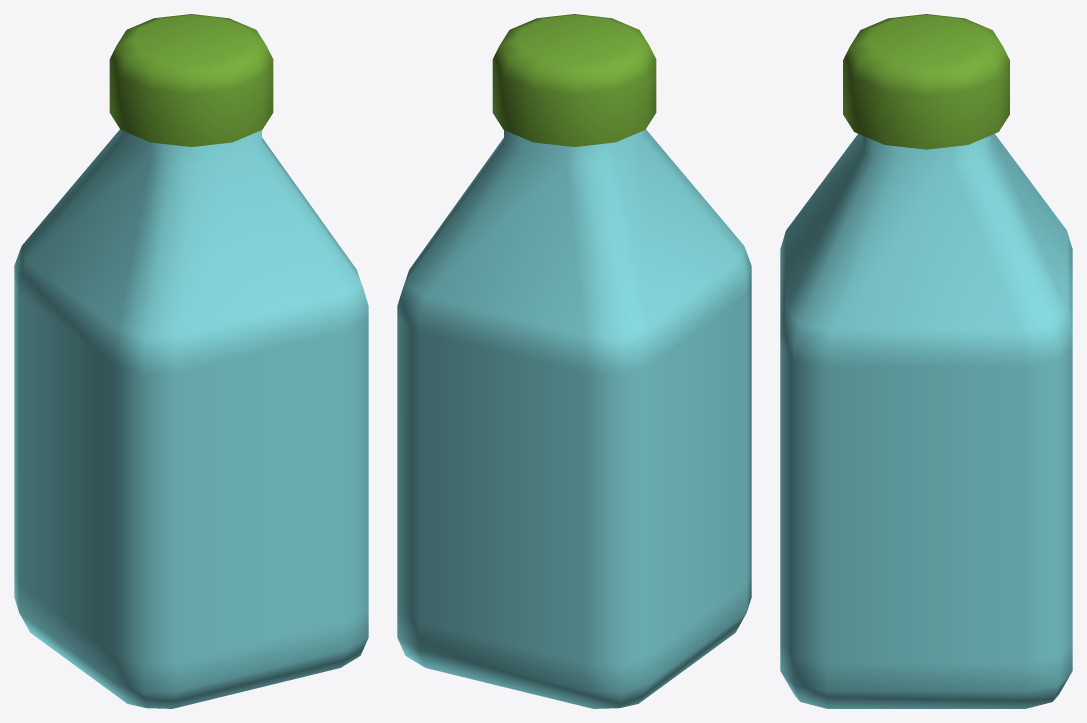
File: thick-bottle.fbx
The picture shows the model from 3 angles, left to right: view 1: azimuth 30°, elevation 25°; view 2: azimuth 150°, elevation 25°; view 3: azimuth 270°, elevation 25°; orthographic projection.
Parts seen in each view (by area): view 1: bottle-thick.001; view 2: bottle-thick.001; view 3: bottle-thick.001.
Part boxes in pixels (x1=…): bottle-thick.001: x1=14, y1=14, x2=368, y2=708; bottle-thick.001: x1=397, y1=14, x2=751, y2=708; bottle-thick.001: x1=780, y1=14, x2=1072, y2=708.
Size of the model in its own units: 109 by 257 by 109.
